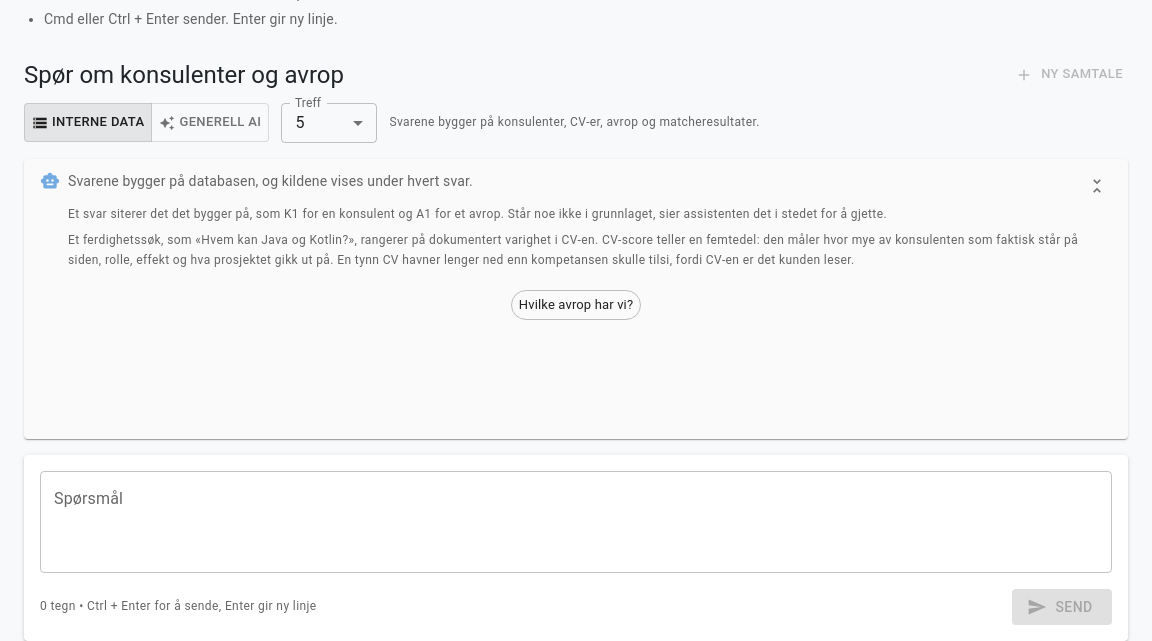
Scenario: ChatAssistantPage › offers a general answer after a question found no grounding
(page scrolled)
Replace the text in the text box labelled "Spørsmål" with "Hvordan bør et tilbud struktureres?" at (576, 522), box [54,487,1098,556]
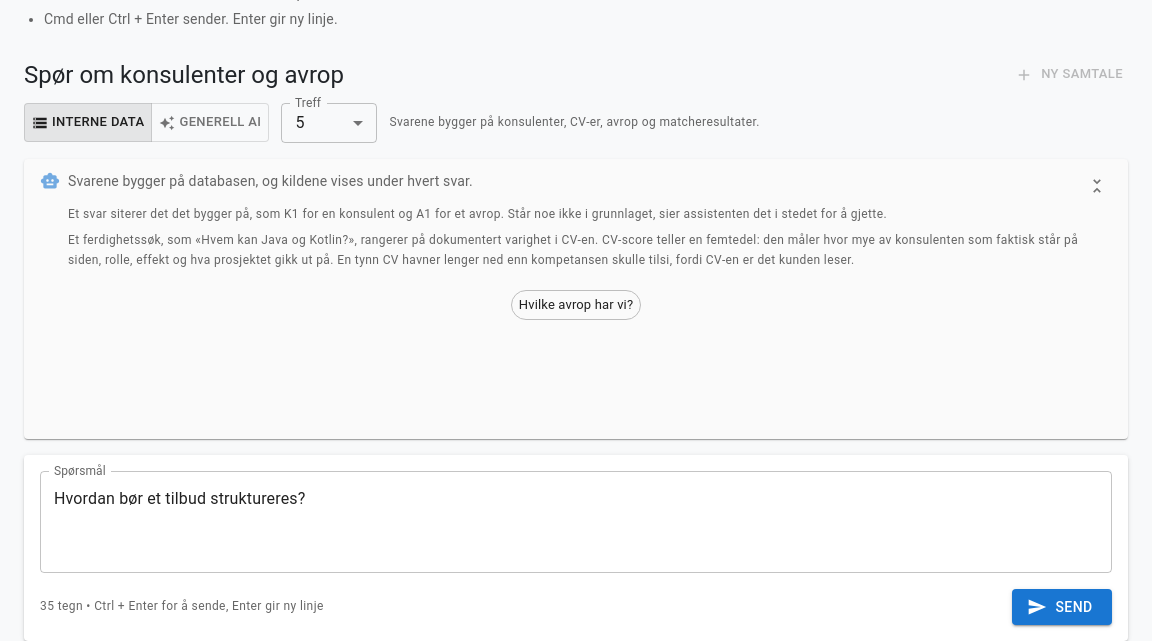
Click the button "Send" at (1062, 607), box [1012,589,1112,625]
(page scrolled)
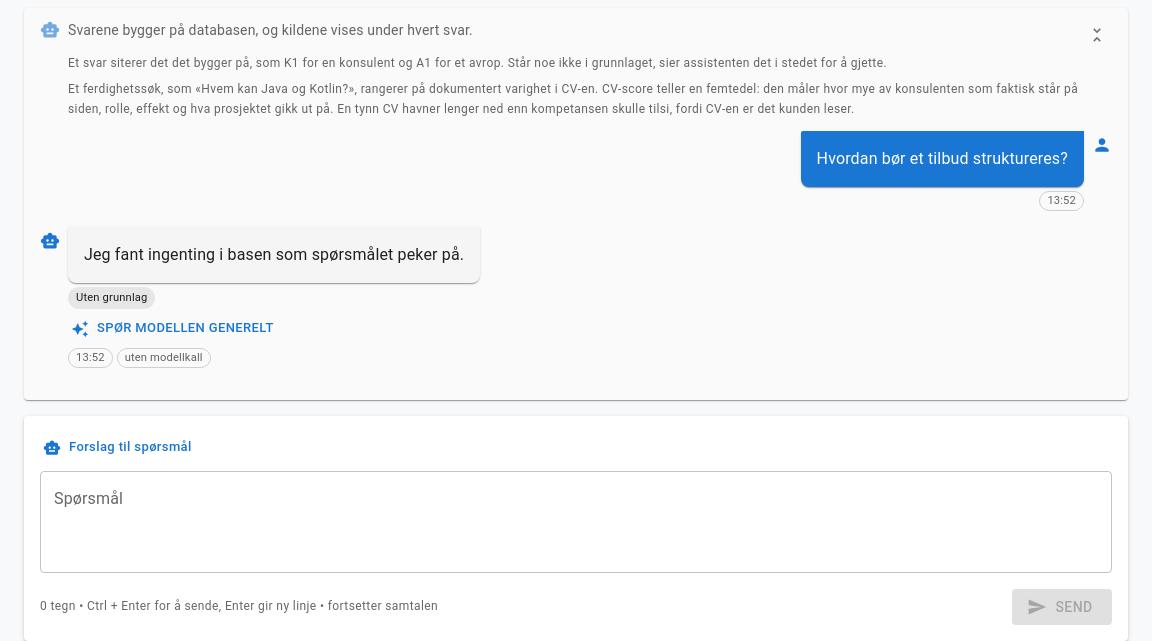
Now the text "Uten grunnlag" is shown, box [76,291,147,304]
Click the button "Spør modellen generelt" at (173, 329), box [68,313,279,344]
(page scrolled)
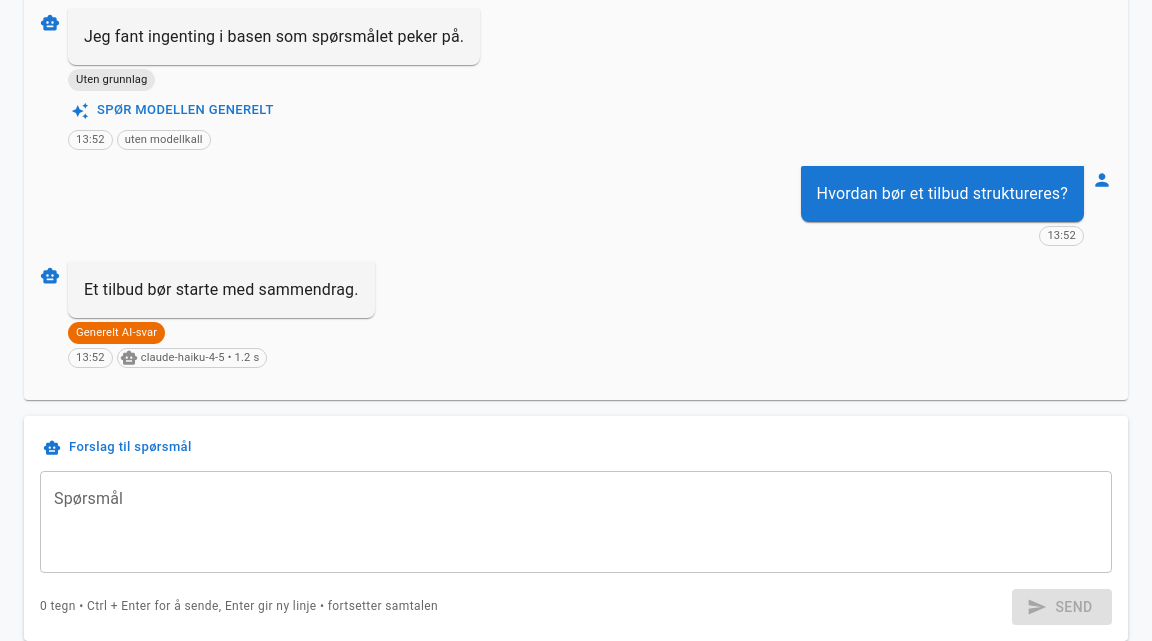
Now the text "Generelt AI-svar" is shown, box [76,326,157,339]
